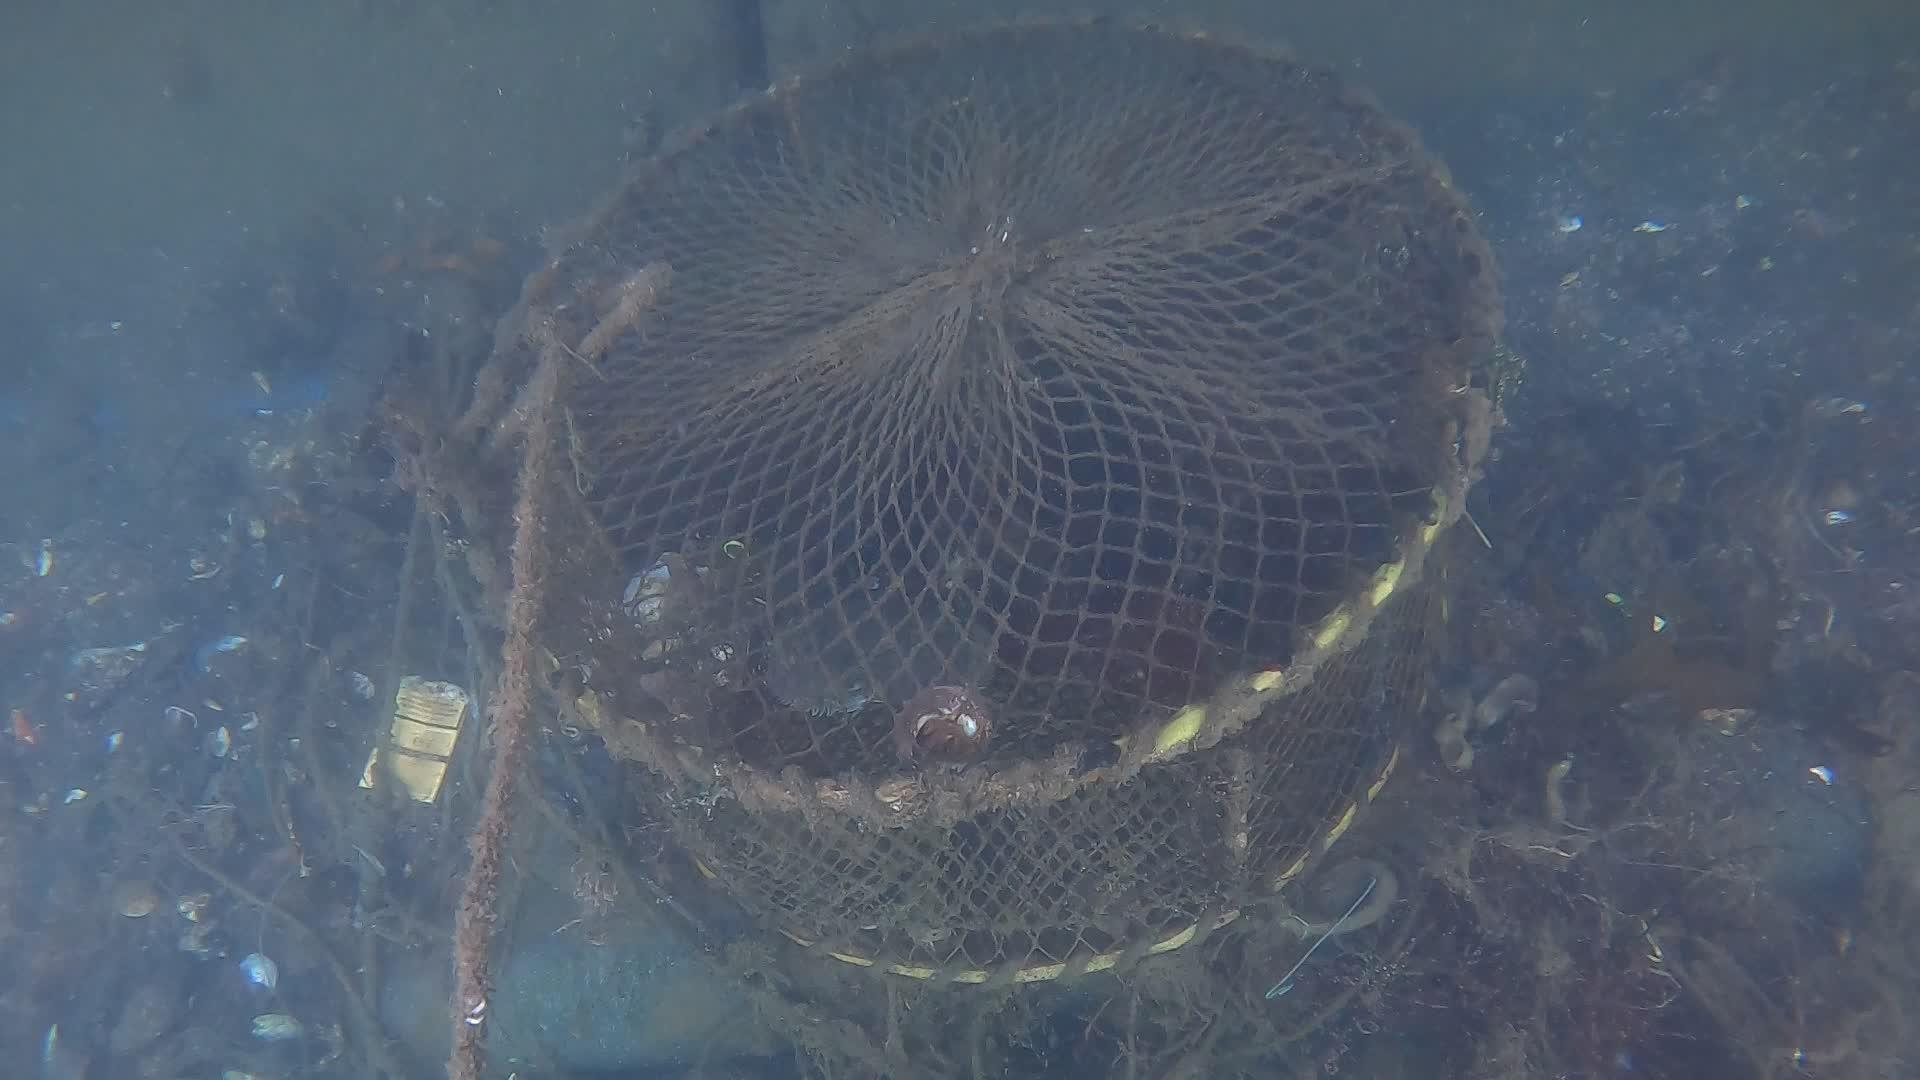circular fish trap: (469, 16, 1511, 998)
